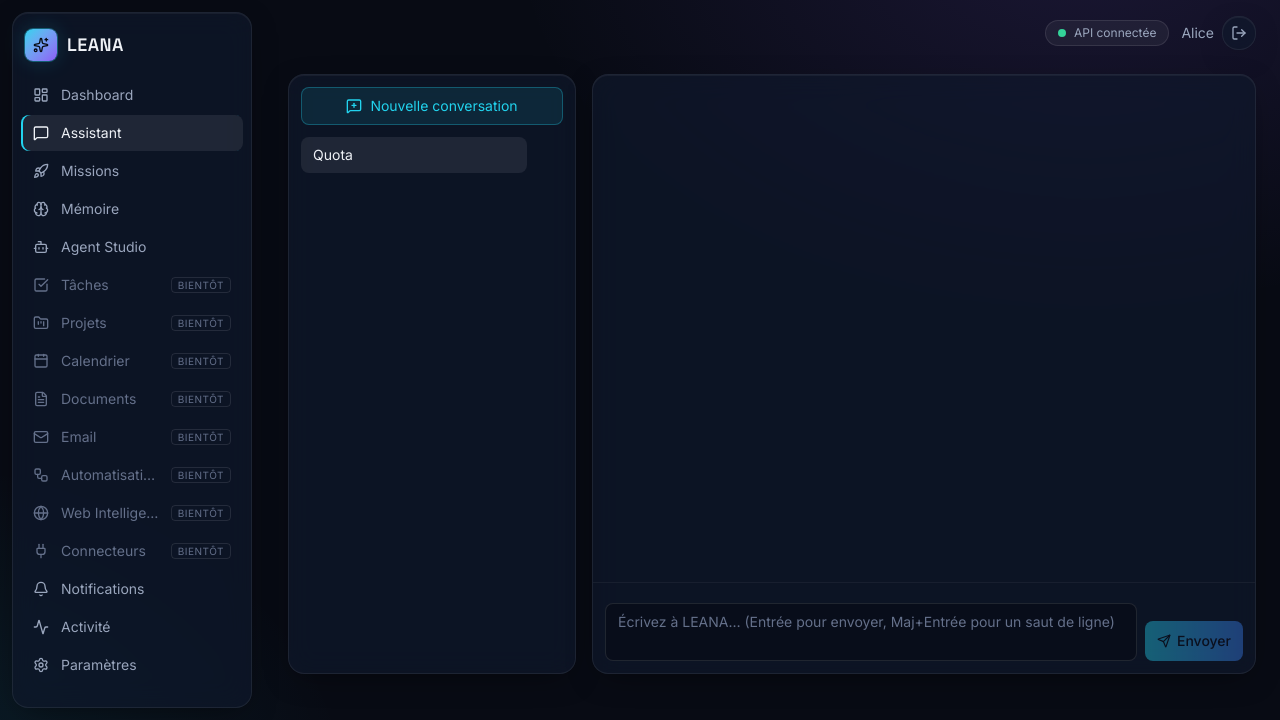
Test: assistant › gives the text back when the daily quota is reached
The image size is (1280, 720).
Replace the text in the text box named "Message pour LEANA" with "Encore une question" at (871, 632), box [605, 603, 1137, 661]
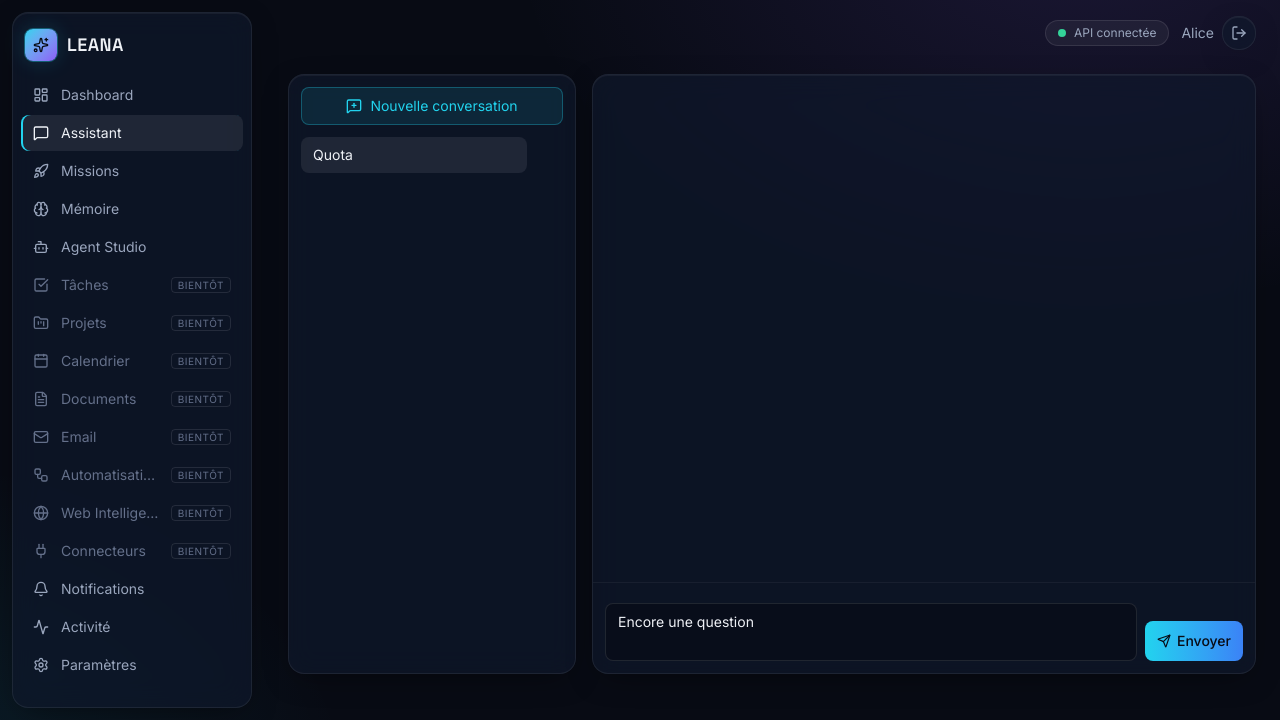
Click the button "Envoyer" at (1194, 641), box [1145, 621, 1243, 661]
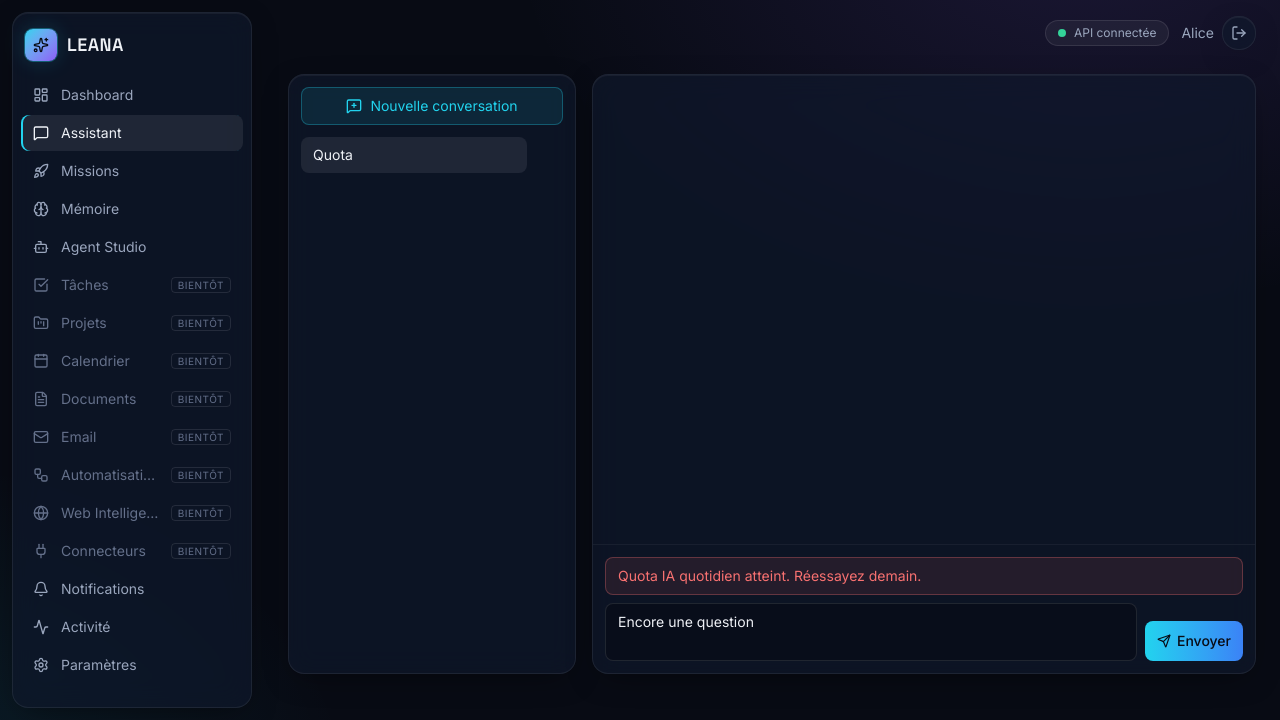
Result: the message "Quota IA quotidien atteint. Réessayez demain." is shown at [605, 557, 1243, 595]
